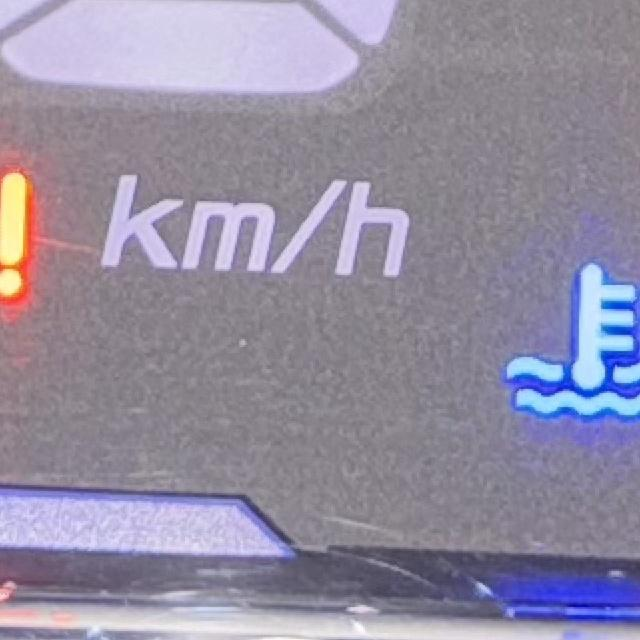High Engine Temperature: (505, 264, 640, 424)
